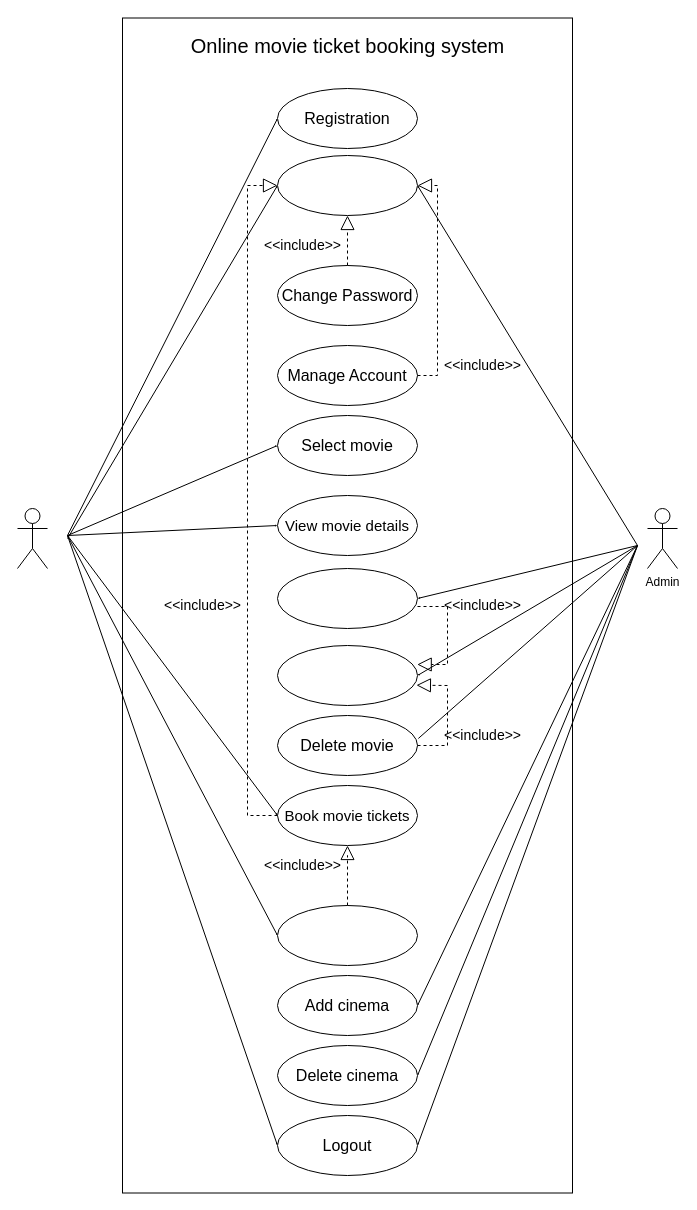
Image size: 697x1210. Some labels were removed from this diagram. The box of each missing label's shape, as (x1, y1, x2, y2) in pixels:
Add movie: (276, 568, 418, 628)
Login: (276, 154, 418, 216)
Manage movie: (276, 644, 418, 706)
Payment: (276, 904, 418, 966)
User: (16, 508, 48, 568)
